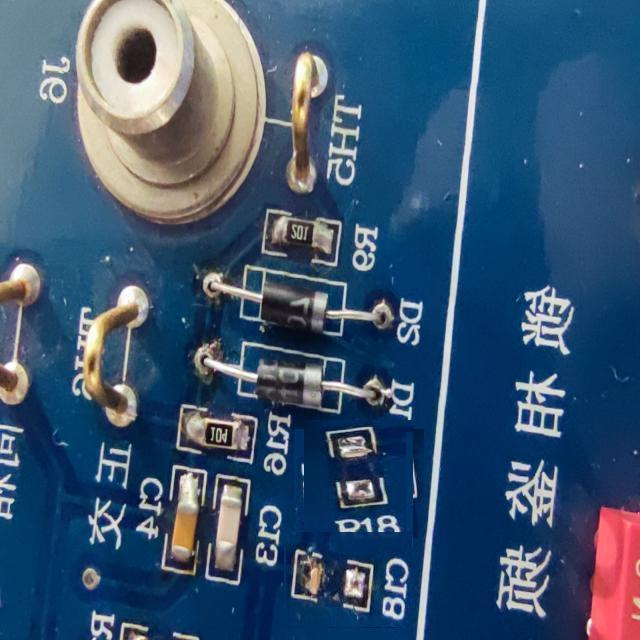miss_welding: (305, 419, 413, 548), (285, 532, 412, 627)
